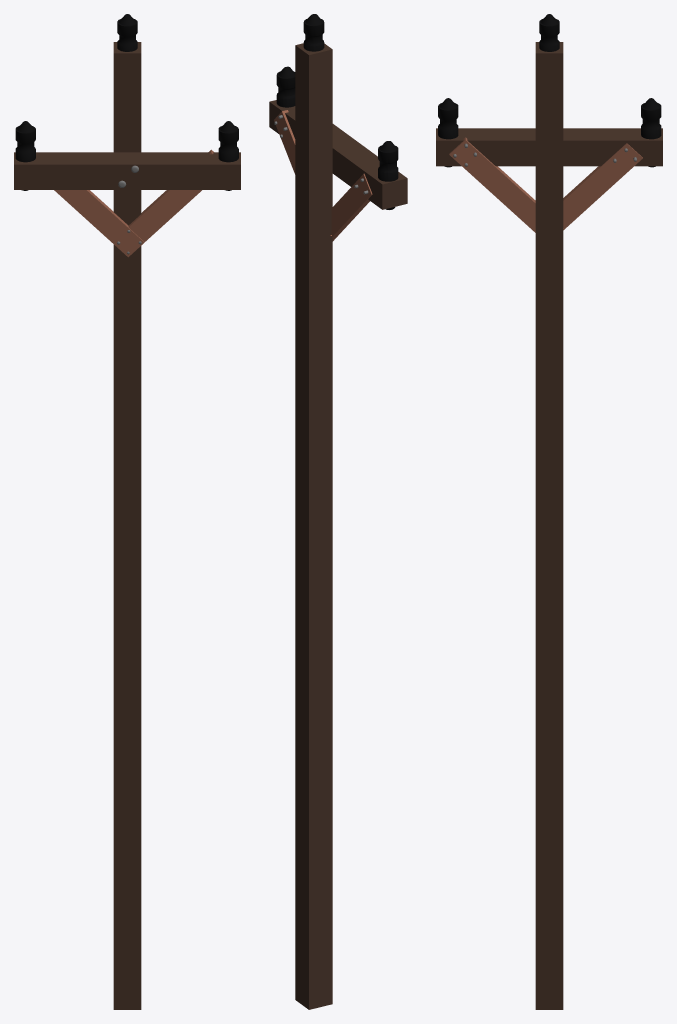
The model's file is pole.fbx.
3 renders of one model, left to right at view 1: azimuth 90°, elevation 25°; view 2: azimuth 210°, elevation 25°; view 3: azimuth 270°, elevation 25°, orthographic.
Visible parts, largest first — view 1: Main, Side, Tip; view 2: Main, Tip, Side; view 3: Main, Side, Tip.
Part boxes in pixels (x1,y1,x2,y2): Main: [14, 42, 240, 1009]; Side: [54, 149, 213, 257]; Tip: [15, 14, 238, 162]; Main: [269, 43, 407, 1009]; Tip: [276, 14, 398, 181]; Side: [274, 110, 372, 241]; Main: [436, 42, 662, 1009]; Side: [449, 137, 642, 232]; Tip: [438, 14, 661, 139].
Bounding box in the file's own units: 213 × 3976 × 826.
